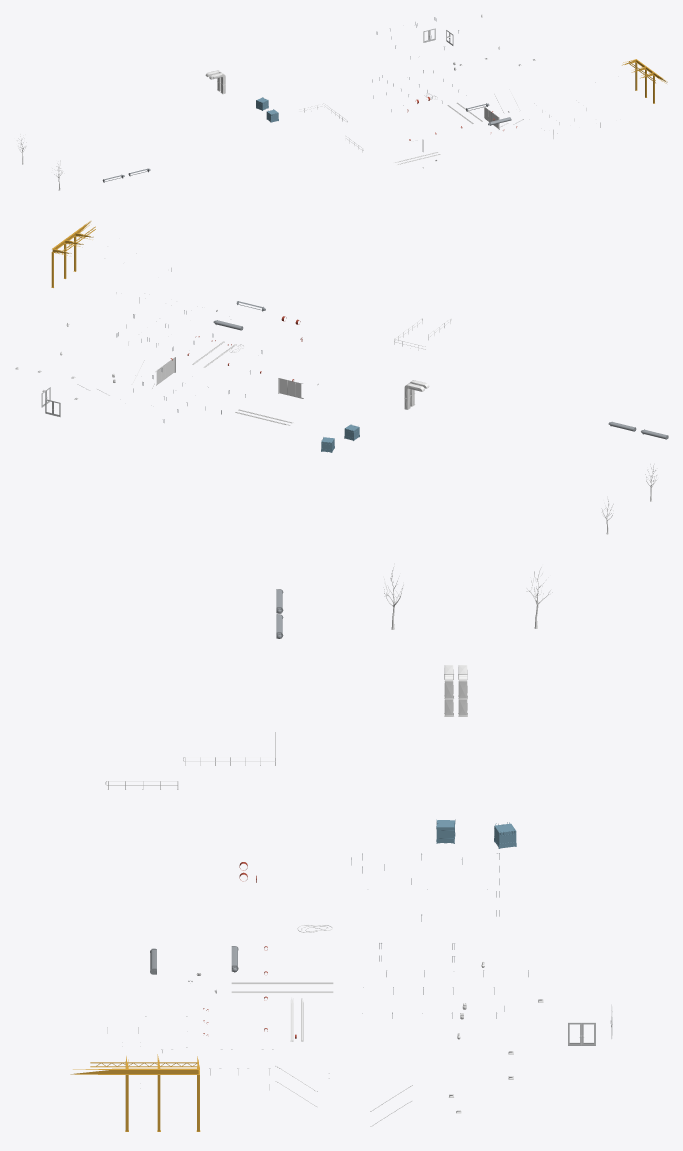
3 renders of one model, top to bottom at view 1: azimuth 30°, elevation 25°; view 2: azimuth 150°, elevation 25°; view 3: azimuth 270°, elevation 25°, orthographic. The views are drawn at different scales.
Parts seen in each view (by area): view 1: n0_lr0_agg_merge_nuke_industrial_props_001_0_fragment1_c0_1, n0_lr0_agg_merge_web_joist_001_0_fragment1_c2_1, n0_lr0_agg_merge_metal_crate_002b_1_fragment3_c-1_0; view 2: n0_lr0_agg_merge_nuke_industrial_props_001_0_fragment1_c0_1, n0_lr0_agg_merge_web_joist_001_0_fragment1_c2_1; view 3: n0_lr0_agg_merge_web_joist_001_0_fragment1_c2_1, n0_lr0_agg_merge_nuke_industrial_props_001_0_fragment1_c0_1, n0_lr0_agg_merge_airduct_hvac_001b_0_fragment1_c-2_0, n0_lr0_agg_merge_metal_crate_002b_1_fragment3_c-1_0.
Boxes of the visible parts, <box> form: n0_lr0_agg_merge_nuke_industrial_props_001_0_fragment1_c0_1: <box>393,93,499,164</box>; n0_lr0_agg_merge_web_joist_001_0_fragment1_c2_1: <box>622,59,667,103</box>; n0_lr0_agg_merge_metal_crate_002b_1_fragment3_c-1_0: <box>256,97,278,122</box>; n0_lr0_agg_merge_nuke_industrial_props_001_0_fragment1_c0_1: <box>155,341,303,425</box>; n0_lr0_agg_merge_web_joist_001_0_fragment1_c2_1: <box>51,221,95,287</box>; n0_lr0_agg_merge_web_joist_001_0_fragment1_c2_1: <box>70,1054,200,1131</box>; n0_lr0_agg_merge_nuke_industrial_props_001_0_fragment1_c0_1: <box>231,924,333,1041</box>; n0_lr0_agg_merge_airduct_hvac_001b_0_fragment1_c-2_0: <box>444,665,467,716</box>; n0_lr0_agg_merge_metal_crate_002b_1_fragment3_c-1_0: <box>436,819,516,848</box>.
Size of the model in its own units: 5324 by 909 by 2332.
